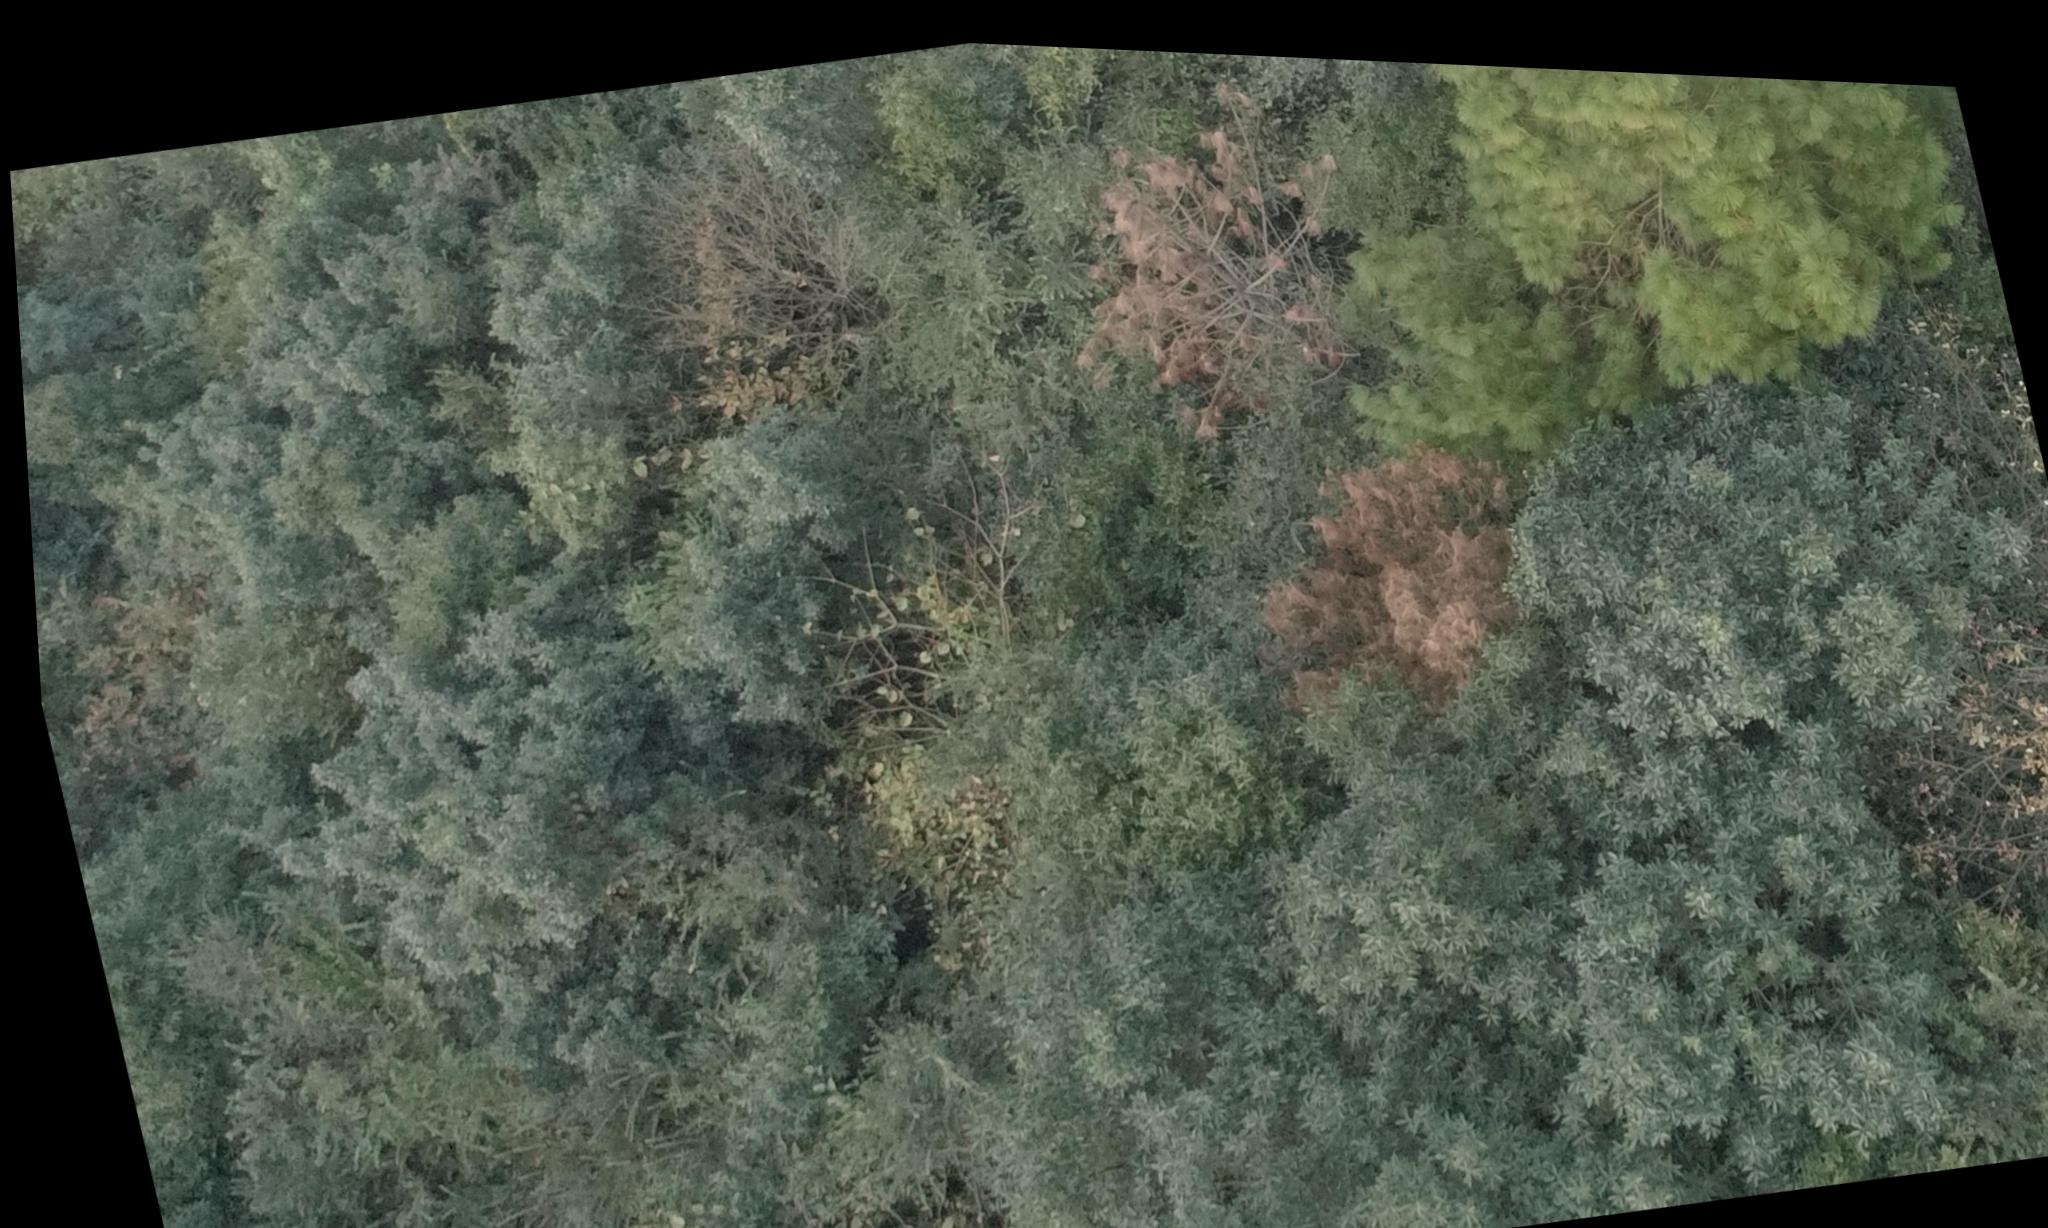heavy: (1053, 79, 1373, 433), (1244, 417, 1533, 718)
